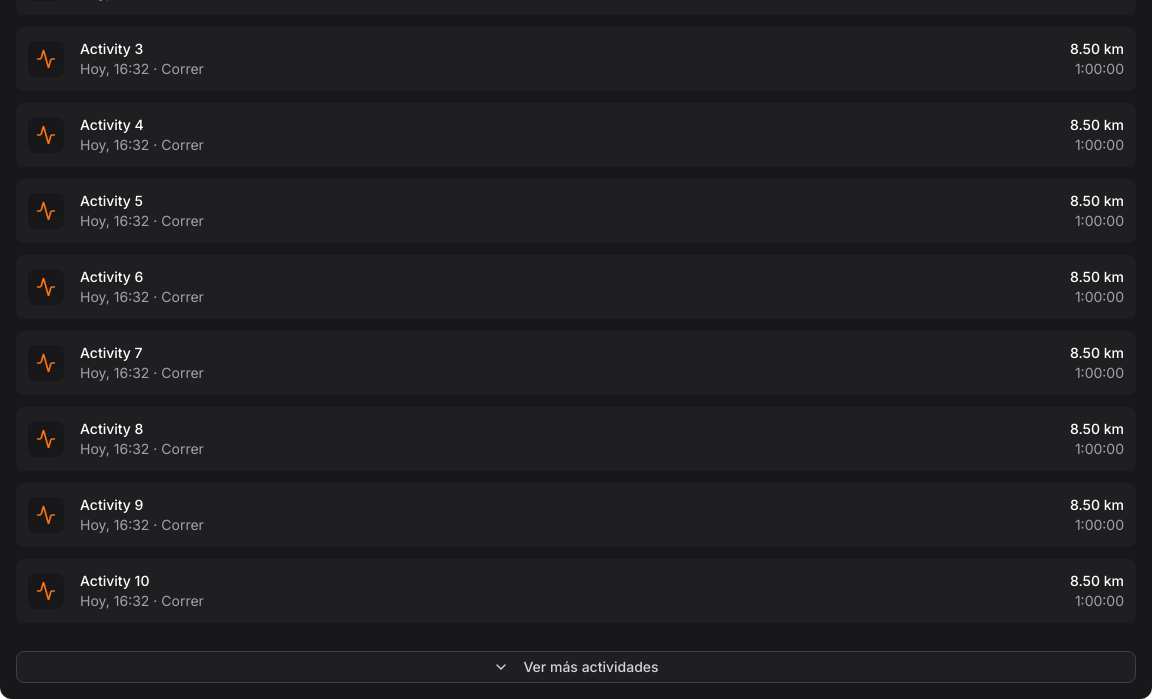
Test case: ActivityList › loads more activities when "Ver más" is clicked
(page scrolled)
Click the button "Ver más actividades": coordinates (576, 667) [16,651,1136,683]
(page scrolled)
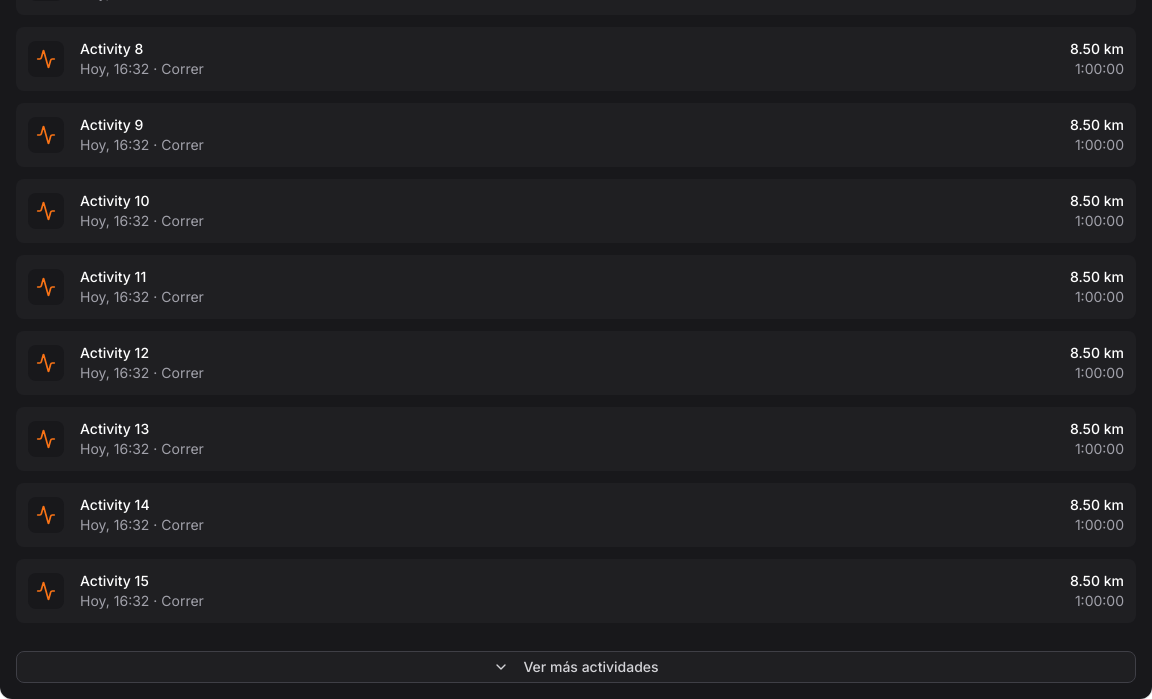
Check: the text "Activity 15" is shown, box [80,571,149,591]
